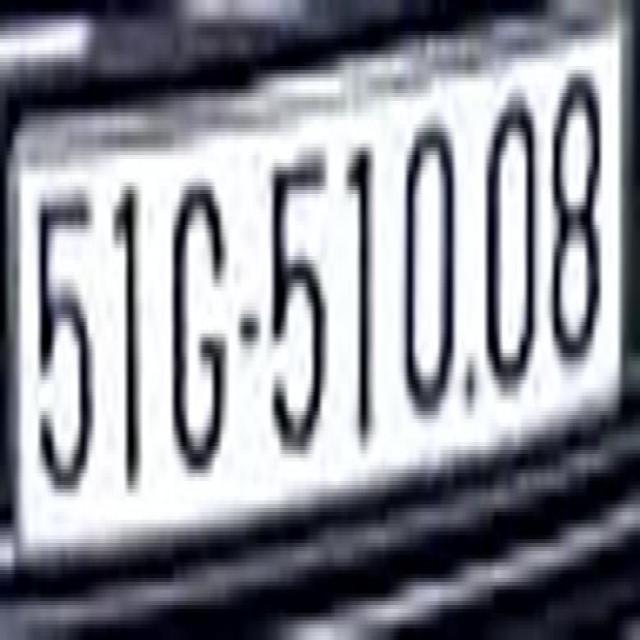0: (398, 81, 458, 438), (484, 58, 538, 427)
1: (103, 148, 152, 528), (337, 86, 385, 462)
5: (32, 166, 100, 508), (268, 101, 328, 485)
8: (544, 35, 602, 408)
G: (167, 136, 226, 500)
